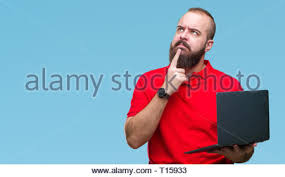white_male: (165, 11, 214, 58)
